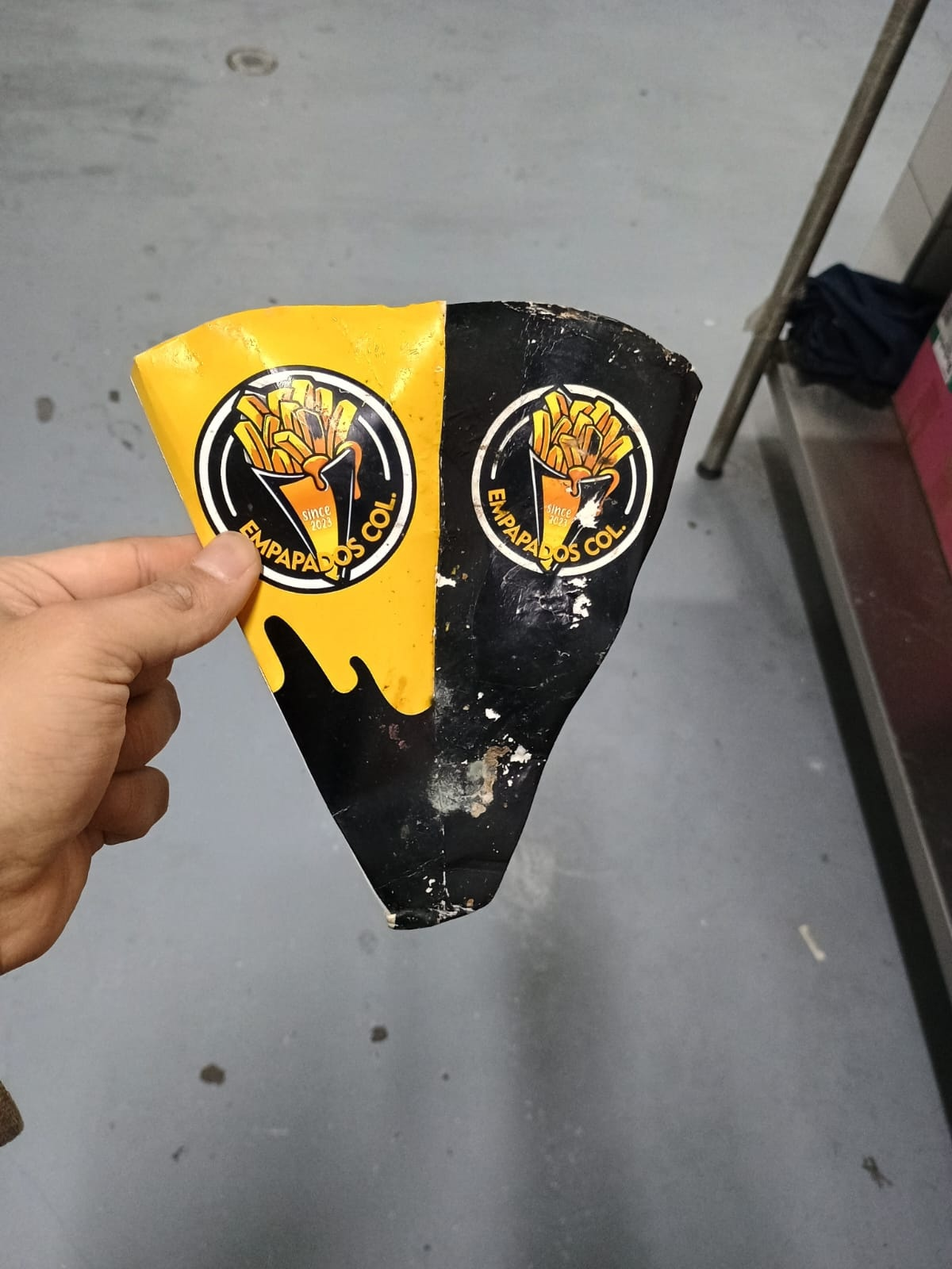Carton: (131, 301, 701, 929)
